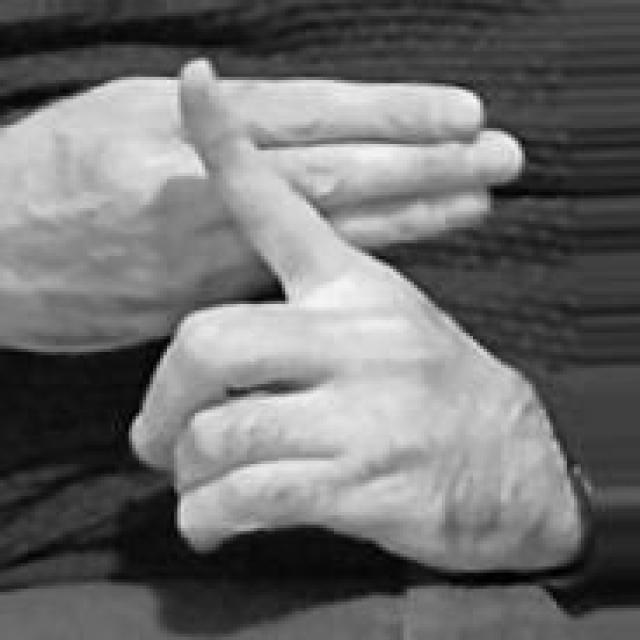E: (5, 49, 582, 599)
